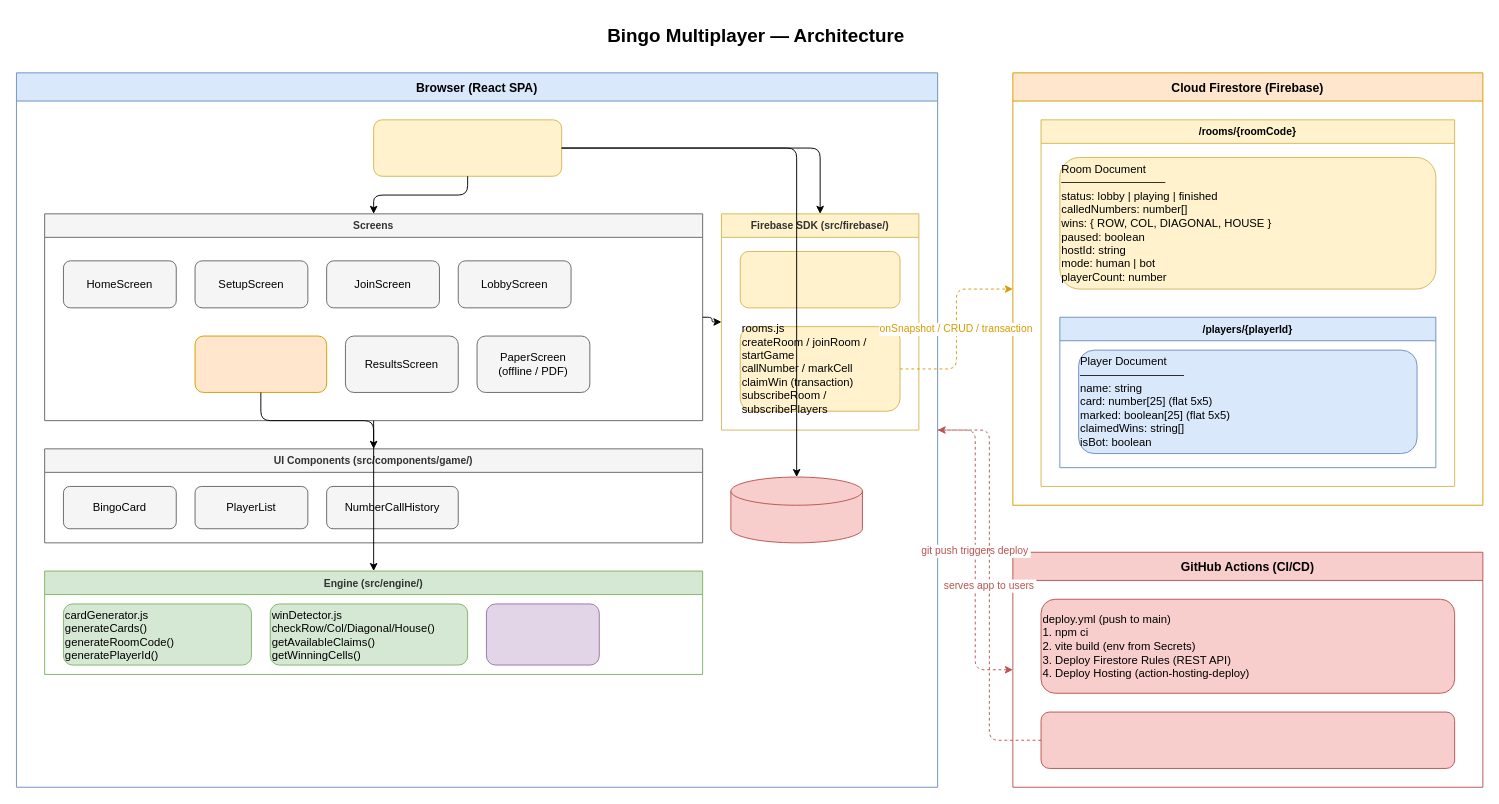
The diagram is 1499 pixels wide and 804 high, and some of its shapes have lost their labels. Each missing label, with the centre of its shape:
"App.jsx (phase controller)" belongs at (x=467, y=147).
"config.js Firebase init (reads .env)" belongs at (x=819, y=279).
"Firebase Hosting https://bingo-game-b09b8.web.app (serves dist/ — SPA mode)" belongs at (x=1247, y=739).
"GameScreen (host timer + bot AI)" belongs at (x=260, y=363).
"jsPDF (lazy import)" belongs at (x=542, y=634).
"localStorage (playerId UUID)" belongs at (x=796, y=509).
